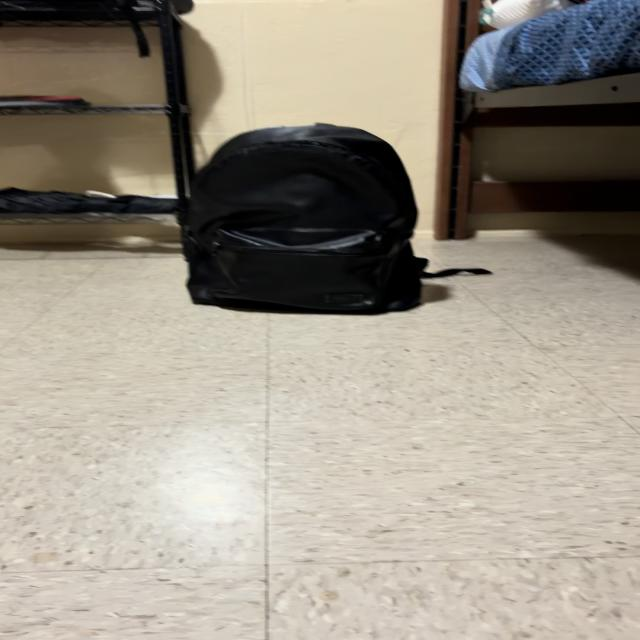backpack: (182, 124, 428, 312), (438, 270, 461, 274), (465, 270, 484, 272), (431, 274, 432, 275)
